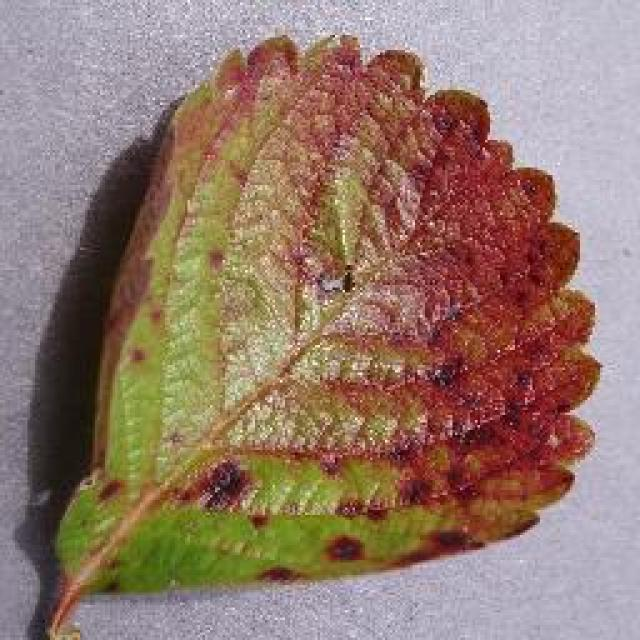Strawberry leaf scorch: (123, 87, 595, 575)
